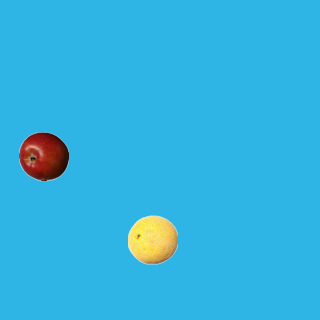Apple Braeburn: (18, 131, 68, 181)
Cantaloupe 1: (127, 214, 177, 264)
